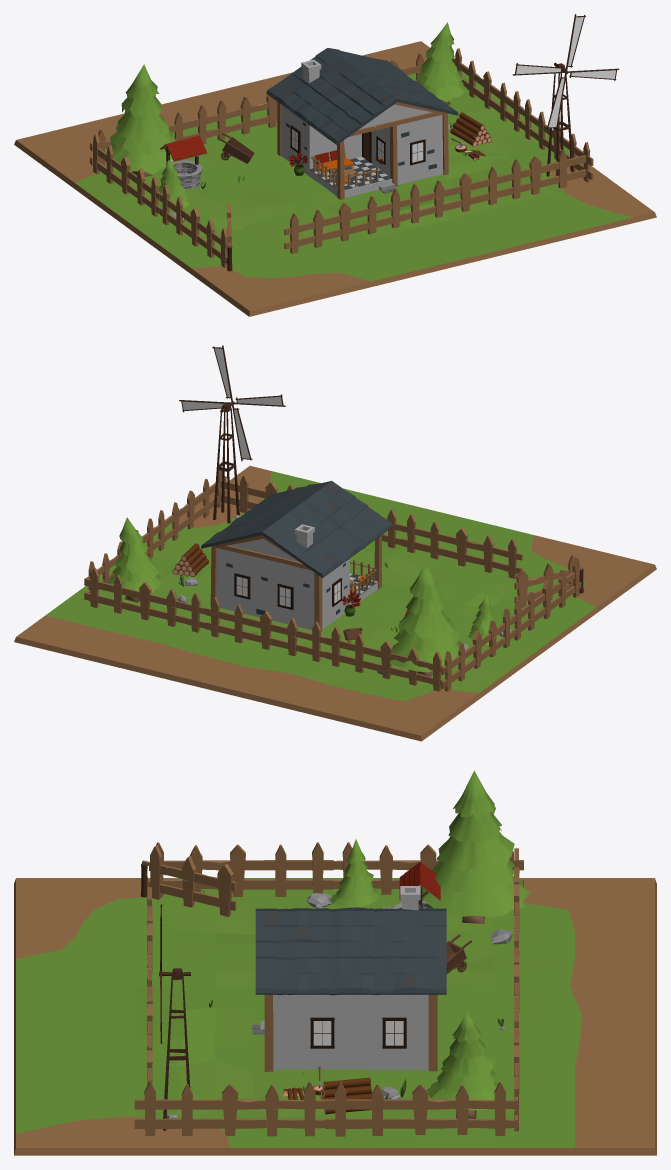
File: Farm.fbx
3 renders of one model, top to bottom at view 1: azimuth 30°, elevation 25°; view 2: azimuth 150°, elevation 25°; view 3: azimuth 270°, elevation 25°, orthographic. The views are drawn at different scales.
Visible parts, largest first — view 1: Terrain, wood fence front, roof.001, wood fence back, house body, Pine Tree 2, wooden eges, Pine Tree 1, prop, Logs, mill foot, floor.003 (+5 smaller); view 2: Terrain, wood fence back, roof.001, house body, wood fence front, Pine Tree 2, Pine Tree 1, wooden eges, prop, mill foot, gate, Logs (+1 smaller); view 3: Terrain, roof.001, wood fence front, house body, Pine Tree 2, wood fence back, Pine Tree 1, gate, Pine Tree 3, wooden eges, Logs, mill foot (+3 smaller).
Boxes of the visible parts, x1,y1,x2,y2 form: Terrain: [14, 41, 656, 316]; wood fence front: [284, 48, 593, 253]; roof.001: [266, 48, 458, 144]; wood fence back: [89, 53, 453, 267]; house body: [281, 104, 443, 197]; Pine Tree 2: [107, 64, 178, 176]; wooden eges: [277, 102, 448, 199]; Pine Tree 1: [416, 22, 466, 104]; prop: [512, 14, 619, 129]; Logs: [450, 112, 491, 160]; mill foot: [546, 63, 574, 183]; floor.003: [309, 156, 391, 189]; Terrain: [14, 466, 656, 741]; wood fence back: [84, 557, 581, 691]; roof.001: [201, 481, 392, 577]; house body: [216, 539, 377, 630]; wood fence front: [86, 470, 522, 601]; Pine Tree 2: [389, 563, 461, 676]; Pine Tree 1: [106, 517, 163, 602]; wooden eges: [210, 535, 381, 631]; prop: [179, 345, 285, 461]; mill foot: [213, 403, 239, 523]; gate: [514, 555, 583, 607]; Logs: [172, 543, 208, 576]; Terrain: [14, 878, 656, 1155]; roof.001: [255, 907, 446, 995]; wood fence front: [134, 887, 514, 1136]; house body: [273, 994, 428, 1069]; Pine Tree 2: [422, 770, 530, 923]; wood fence back: [147, 842, 523, 1131]; Pine Tree 1: [427, 1011, 506, 1118]; gate: [141, 845, 236, 916]; Pine Tree 3: [329, 839, 380, 907]; wooden eges: [264, 994, 437, 1071]; Logs: [283, 1077, 372, 1114]; mill foot: [163, 968, 190, 1130].
Bounding box in the file's own units: 28.12 × 11.27 × 27.06.
10 materials, 4 textured.
